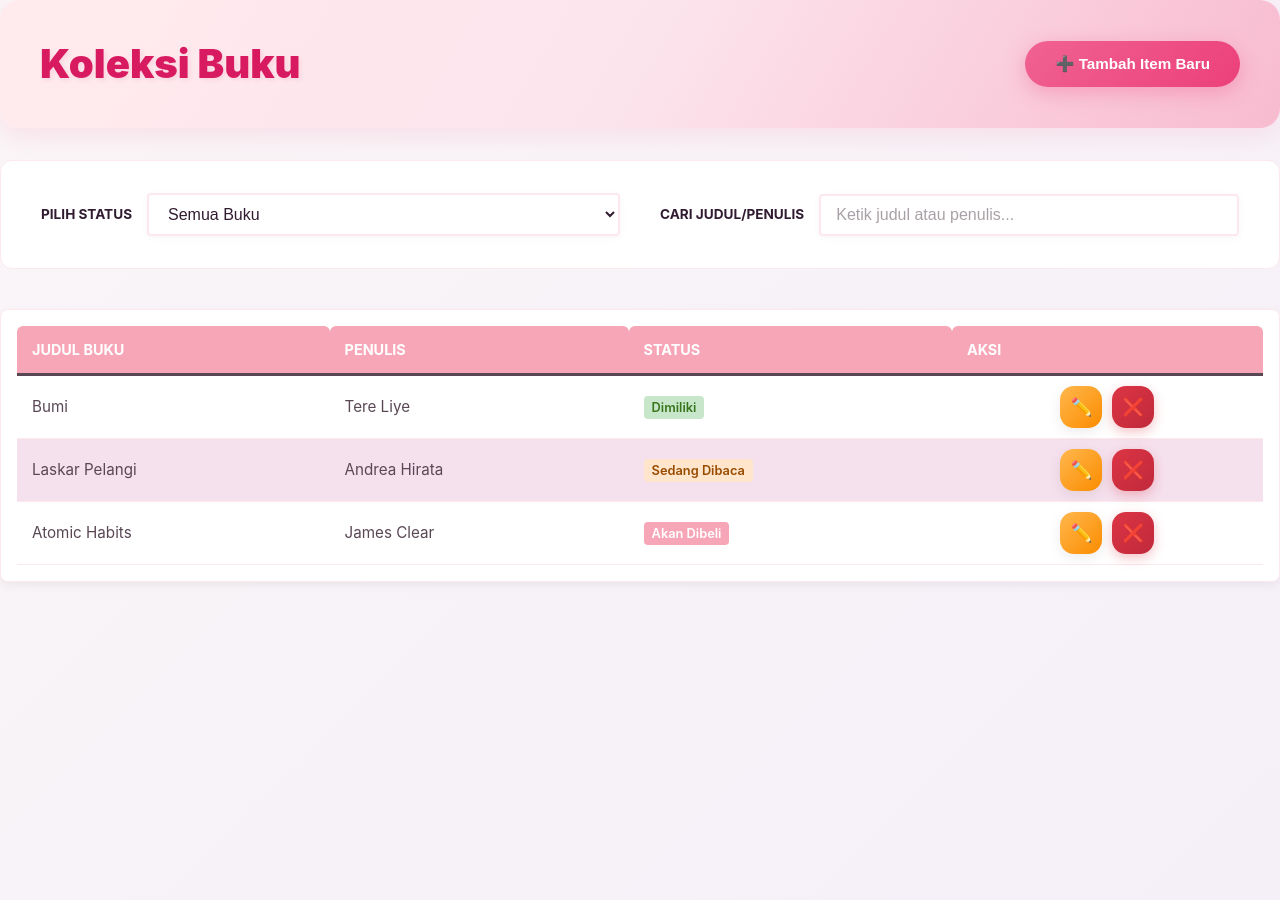
Aplikasi Manajemen Inventaris Buku › Filter pencarian berfungsi di Halaman Home
The image size is (1280, 900).
Step 1. Type "Bumi" into the field with placeholder "Ketik judul atau penulis..." → (1029, 214), box [819,194,1239,236]
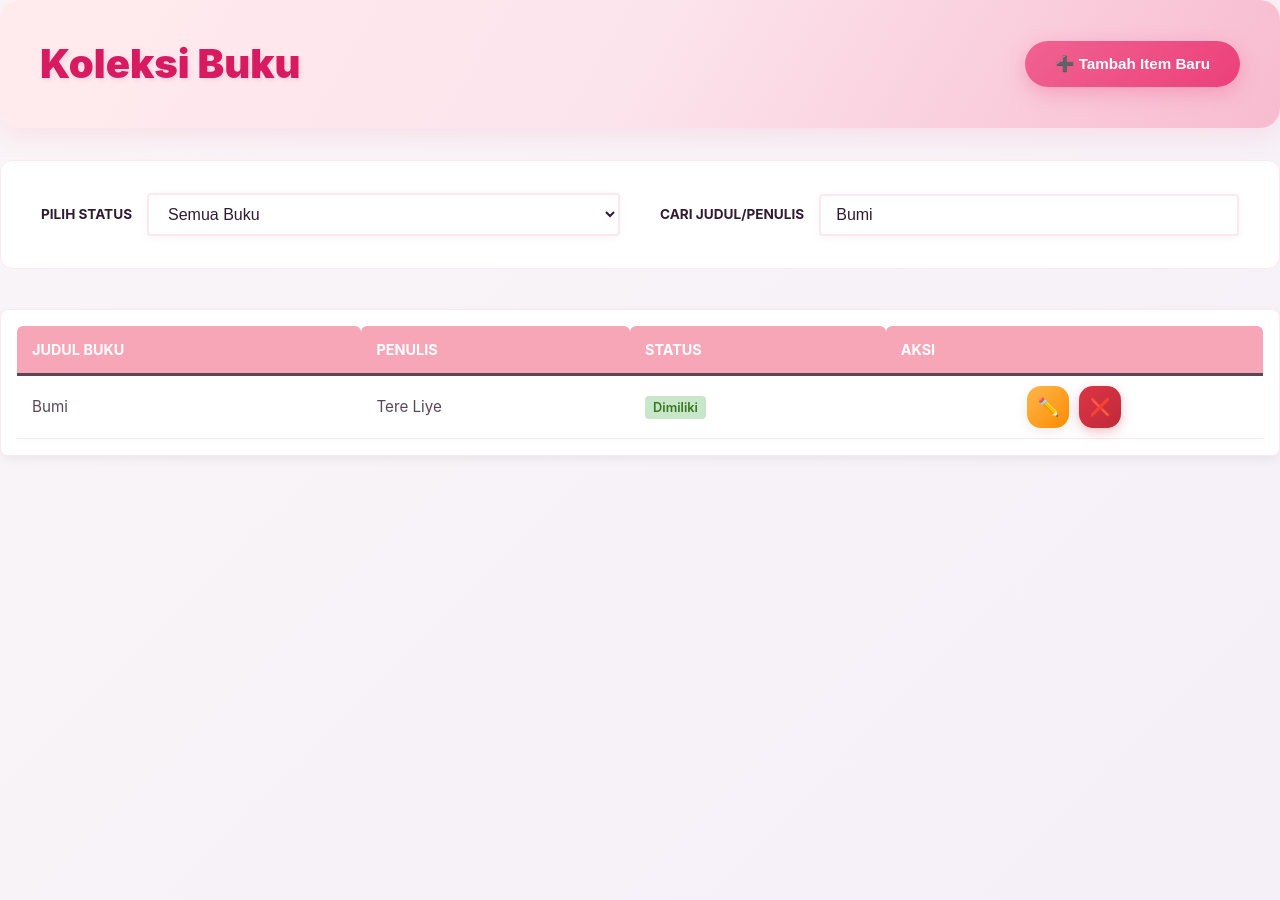
Expected: the text "Bumi" is shown, [17,374,362,438]
Expected: the text "Laskar Pelangi" is gone
Expected: the text "Atomic Habits" is gone
